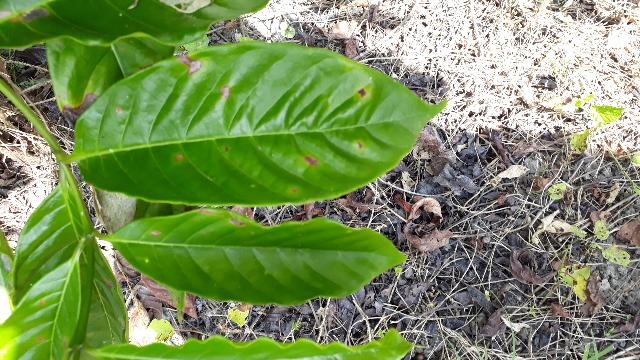healthy: (74, 39, 448, 205)
